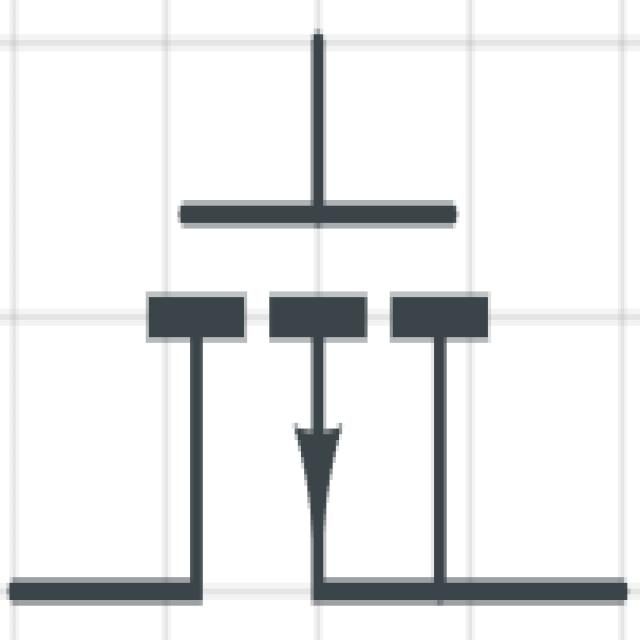nmos: (8, 22, 637, 629)
